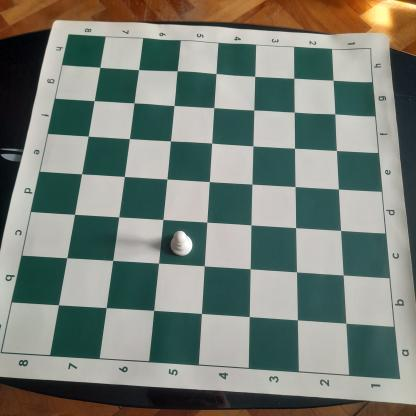white-pawn: (169, 230, 195, 257)
